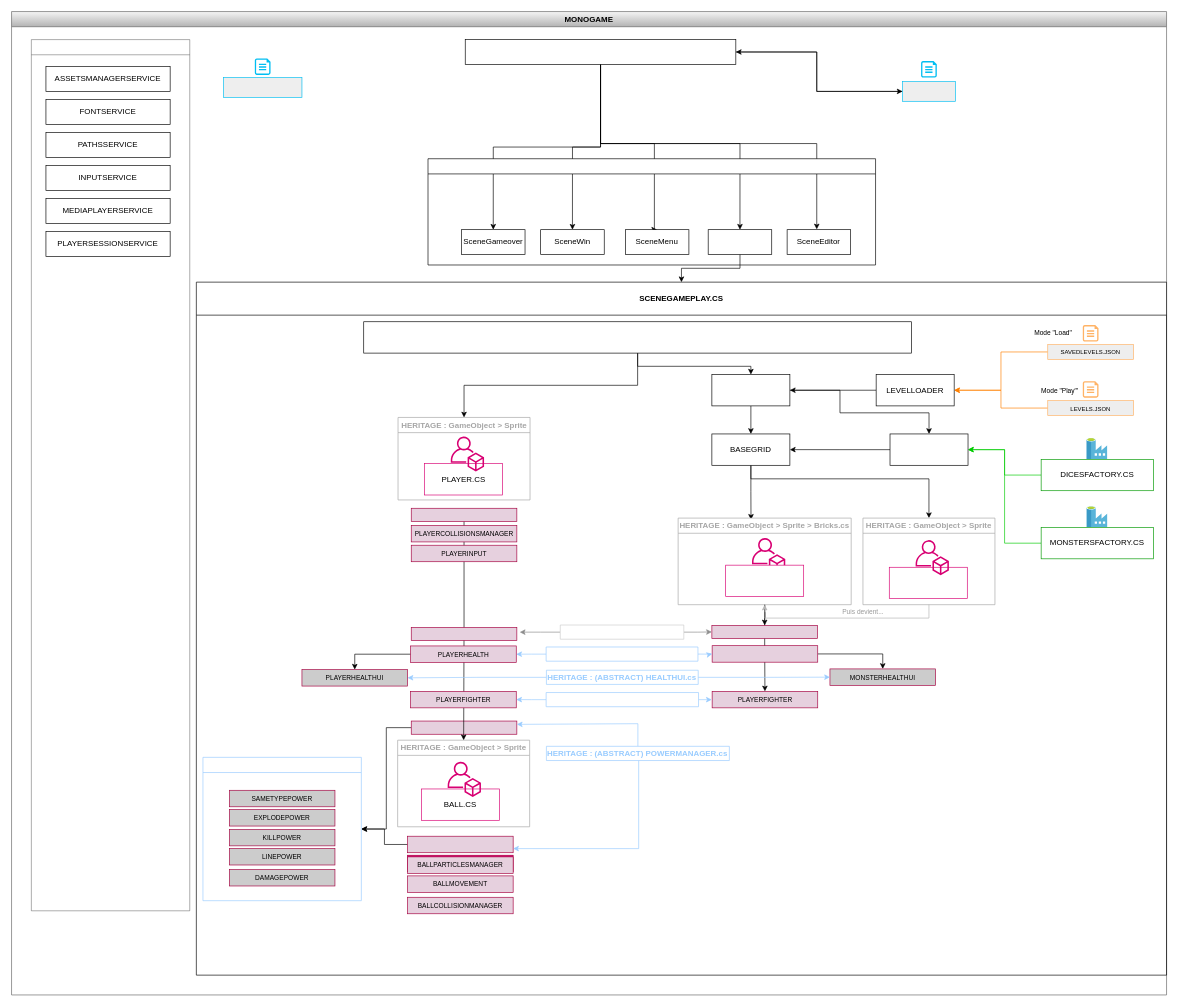
Image size: 1178x1007. Some labels were removed from this diagram. Here are the shapes that lost their labels. From the top down, the box of each, then its label:
(465, 39, 736, 64): MAINGAME.CS
(223, 77, 302, 97): SERVICELOCATOR
(902, 81, 955, 101): GAMESTATE
(427, 158, 876, 265): HERITAGE : SCENE.CS
(708, 229, 772, 254): SceneGamePlay
(363, 321, 912, 353): GAMEMANAGER.CS
(711, 374, 790, 406): LEVELMANAGER
(889, 433, 968, 465): DICESMANAGER
(31, 39, 190, 911): SERVICES LOCATOR
(411, 508, 517, 521): PLAYERMOVEMENT
(725, 564, 804, 597): MONSTER.CS
(889, 567, 967, 599): DICE.CS
(411, 627, 517, 641): PLAYERANIMATOR
(560, 624, 684, 639): HERITAGE : ANIMATOR.cs
(711, 625, 817, 639): MONSTERANIMATOR
(545, 646, 698, 661): HERITAGE : (ABSTRACT) HEALTH.cs
(711, 645, 818, 662): MONSTERHEALTH
(545, 692, 699, 707): HERITAGE : (ABSTRACT) FIGHTER.cs
(411, 720, 517, 734): PLAYERPOWERMANAGER
(202, 757, 361, 901): HERITAGE : (ABSTRACT) Power.cs
(407, 836, 513, 853): BALLPOWERMANAGER
